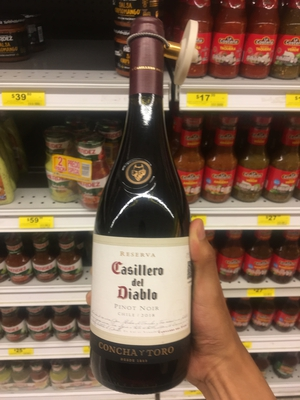casillero del diablo pinot noir: (73, 22, 206, 399)
